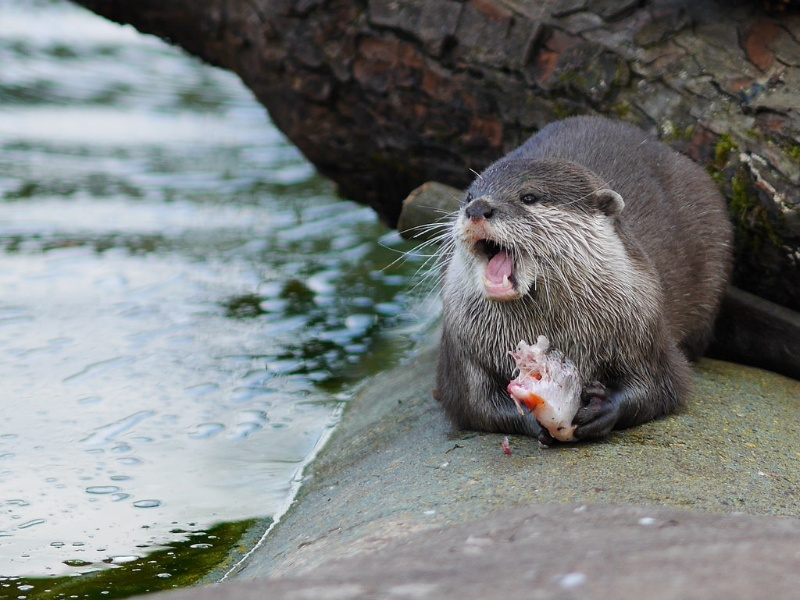minkish: (435, 111, 754, 444)
